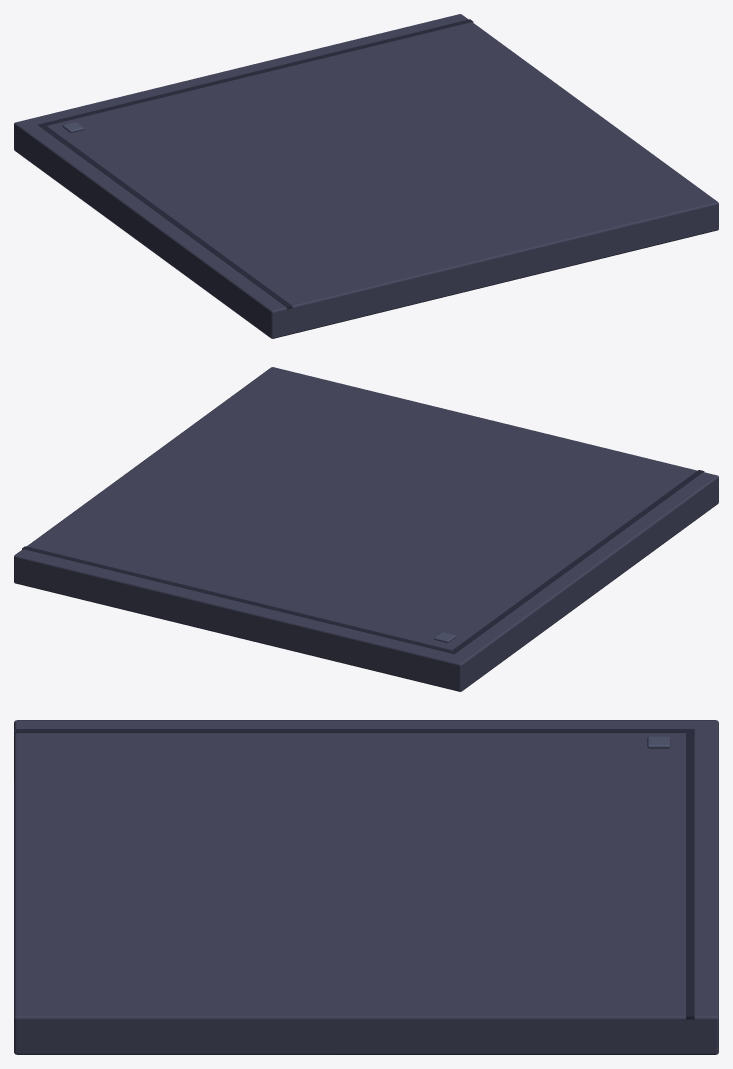
File: floor.plate.WN.glb
3 renders of one model, top to bottom at view 1: azimuth 30°, elevation 25°; view 2: azimuth 150°, elevation 25°; view 3: azimuth 270°, elevation 25°, orthographic. The views are drawn at different scales.
Parts seen in each view (by area): view 1: floor.plate.WN; view 2: floor.plate.WN; view 3: floor.plate.WN.
Part boxes in pixels (x1,y1,x2,y2): floor.plate.WN: (14, 14, 718, 338); floor.plate.WN: (14, 367, 718, 691); floor.plate.WN: (14, 720, 718, 1054).
Bounding box in the file's own units: 0.984 × 0.066 × 0.984.
